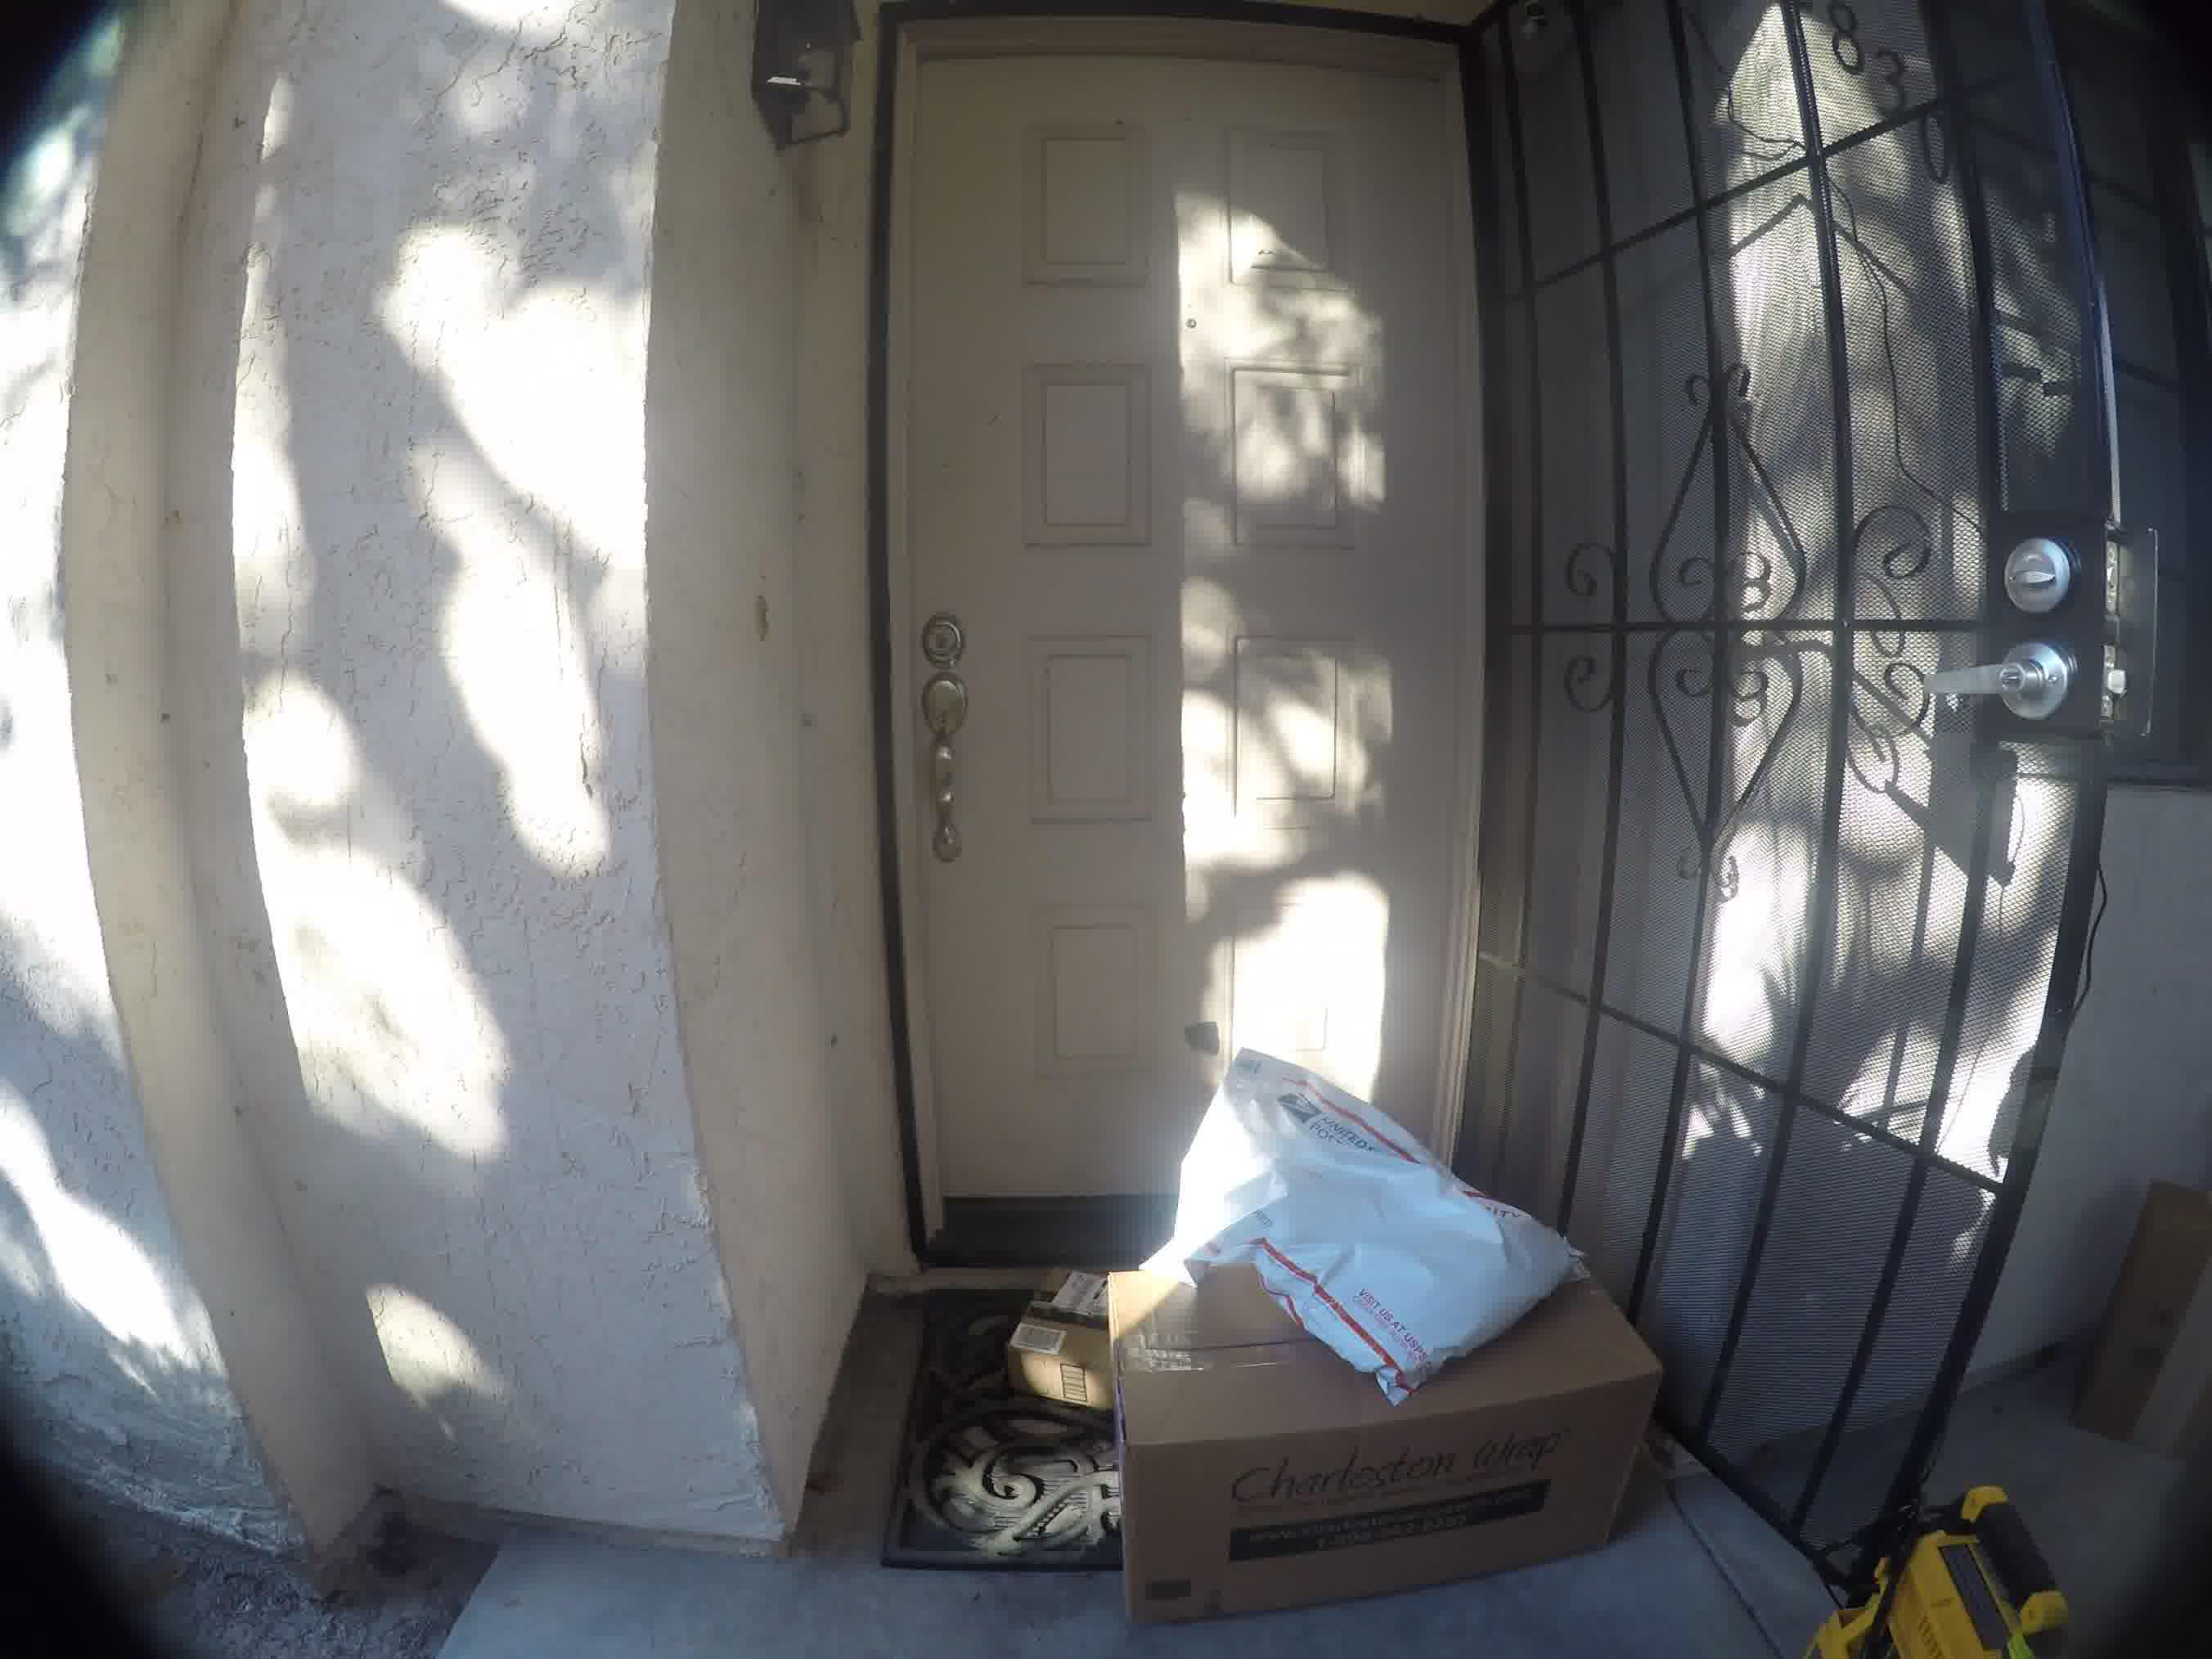box: (1109, 1380, 1658, 1588)
plastic_bag: (1158, 1042, 1599, 1361)
